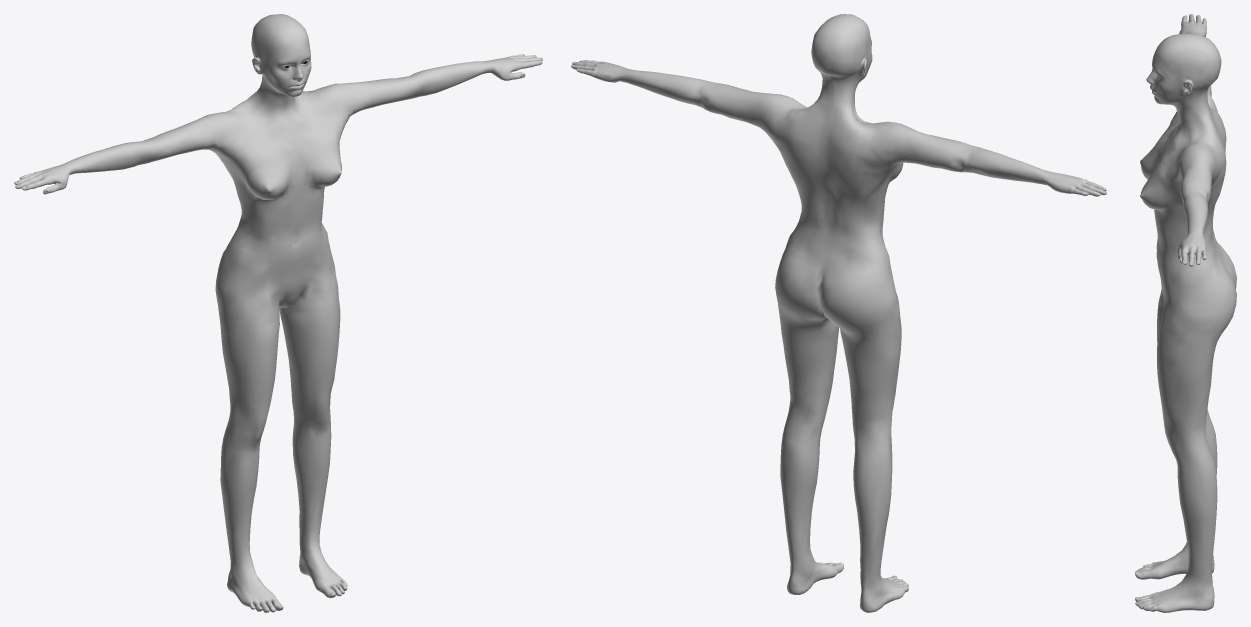
3 views of the same model, side by side, from view 1: azimuth 30°, elevation 25°; view 2: azimuth 150°, elevation 25°; view 3: azimuth 270°, elevation 25° (orthographic). The views are drawn at different scales.
Parts seen in each view (by area): view 1: base.obj; view 2: base.obj; view 3: base.obj.
Boxes of the visible parts, left/top/right/bottom form: base.obj: left=14, top=14, right=542, bottom=612; base.obj: left=571, top=14, right=1106, bottom=612; base.obj: left=1135, top=14, right=1236, bottom=612.
Size of the model in its own units: 1.87 by 1.93 by 0.3196.
